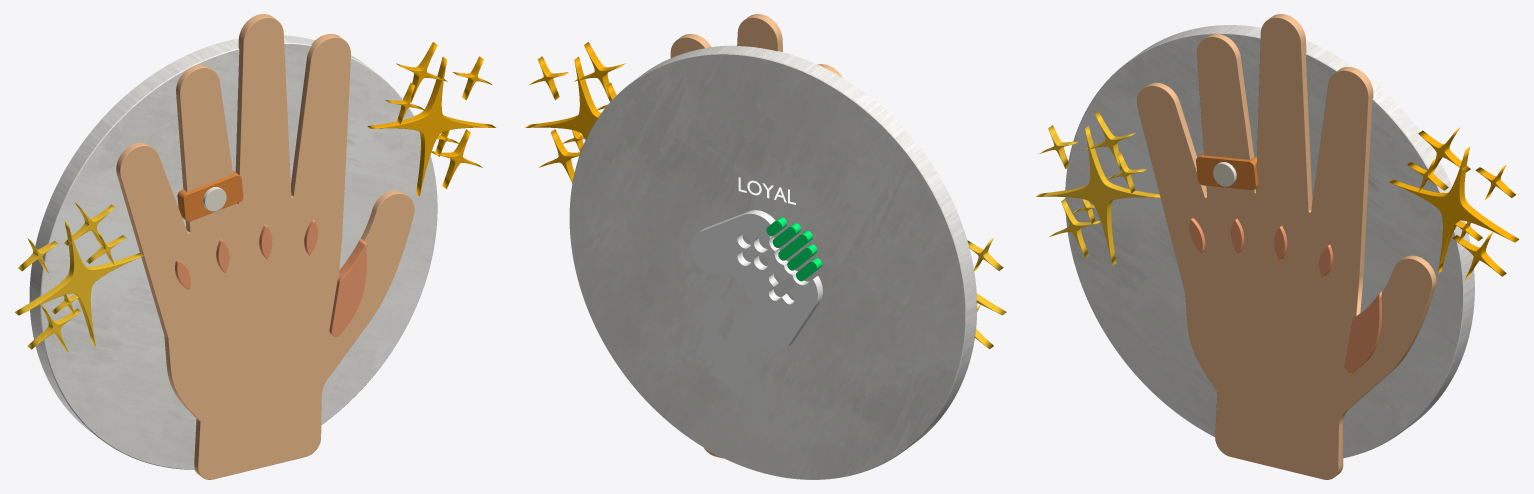
File: loyalty_badge.glb
3 renders of one model, left to right at view 1: azimuth 30°, elevation 25°; view 2: azimuth 150°, elevation 25°; view 3: azimuth 330°, elevation 25°, orthographic.
Parts seen in each view (by area): view 1: Curve, Curve.020, Curve.010, Curve.004, Curve.003, Curve.001; view 2: Curve.020, Curve.010, Curve, Curve.004; view 3: Curve, Curve.020, Curve.010, Curve.004, Curve.003, Curve.001.
Boxes of the visible parts, x1,y1,x2,y2 form: Curve: (116, 14, 414, 479); Curve.020: (29, 35, 437, 469); Curve.010: (367, 42, 495, 196); Curve.004: (14, 202, 143, 351); Curve.003: (175, 219, 366, 336); Curve.001: (177, 171, 243, 221); Curve.020: (569, 45, 977, 479); Curve.010: (525, 42, 625, 183); Curve: (670, 14, 842, 458); Curve.004: (967, 238, 1006, 349); Curve: (1137, 14, 1436, 479); Curve.020: (1065, 25, 1474, 458); Curve.010: (1389, 128, 1519, 279); Curve.004: (1036, 111, 1160, 265); Curve.003: (1189, 217, 1382, 372); Curve.001: (1196, 153, 1258, 189).
Bounding box in the file's own units: 2.18 × 1.96 × 0.1982.
Materials: 10 (1 with a texture image).
